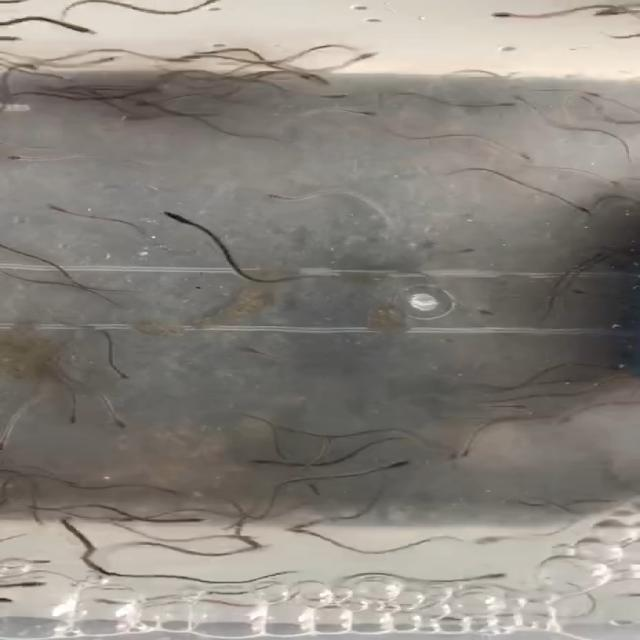active_glass_eel: (109, 44, 180, 68), (436, 95, 492, 119), (132, 87, 195, 108), (434, 239, 476, 266), (472, 301, 507, 331), (479, 134, 526, 156), (161, 209, 198, 234), (258, 57, 300, 77), (63, 20, 105, 40), (490, 5, 530, 25), (48, 205, 93, 222), (237, 532, 267, 556), (0, 429, 31, 452), (352, 49, 401, 63), (142, 516, 198, 528), (125, 478, 171, 492), (459, 573, 501, 588), (523, 98, 561, 114), (267, 82, 303, 98), (574, 404, 599, 427), (566, 194, 592, 216), (349, 107, 383, 123), (0, 152, 66, 160), (580, 94, 606, 114), (580, 220, 608, 238), (246, 457, 296, 467), (56, 409, 87, 425), (282, 349, 308, 368), (105, 414, 140, 428), (368, 460, 415, 470), (88, 561, 114, 579), (335, 538, 367, 552), (0, 59, 32, 73), (199, 548, 226, 564), (266, 192, 296, 206), (183, 532, 212, 546), (95, 370, 128, 382), (299, 516, 336, 526), (19, 579, 47, 590), (91, 57, 119, 68), (146, 572, 170, 584)
